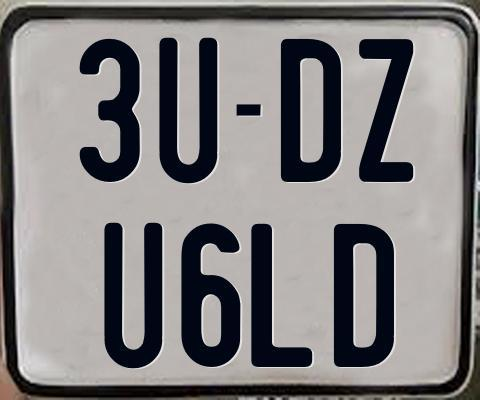3: (78, 37, 139, 184)
6: (180, 223, 243, 371)
D: (280, 39, 343, 184), (331, 222, 391, 366)
L: (251, 223, 318, 366)
U: (158, 38, 220, 187), (102, 220, 164, 369)
Z: (356, 38, 411, 182)
